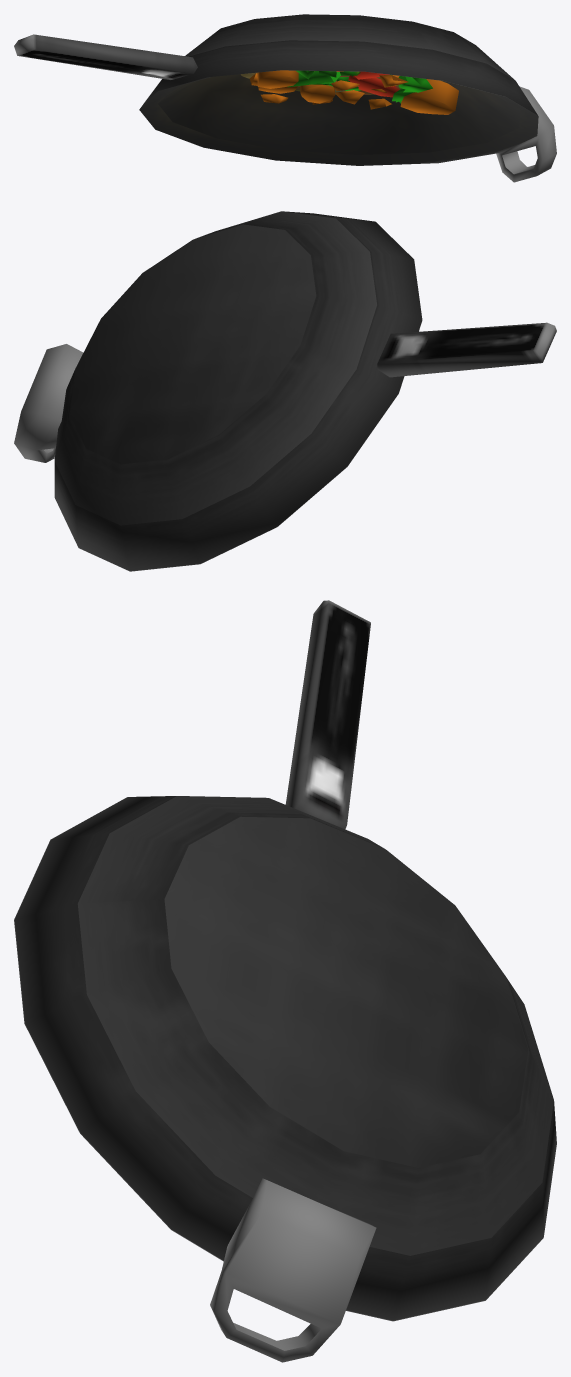
The model's file is H_Wok_StirFry.fbx.
The picture shows the model from 3 angles, top to bottom: view 1: azimuth 30°, elevation 25°; view 2: azimuth 150°, elevation 25°; view 3: azimuth 270°, elevation 25°; orthographic projection. The views are drawn at different scales.
Parts seen in each view (by area): view 1: Wokpan; view 2: Wokpan; view 3: Wokpan.
Boxes of the visible parts, box(x1,y1,x2,y2) form: Wokpan: box(14, 14, 556, 182); Wokpan: box(14, 211, 556, 571); Wokpan: box(14, 600, 556, 1362).
Size of the model in its own units: 79.5 by 39.75 by 47.63.
